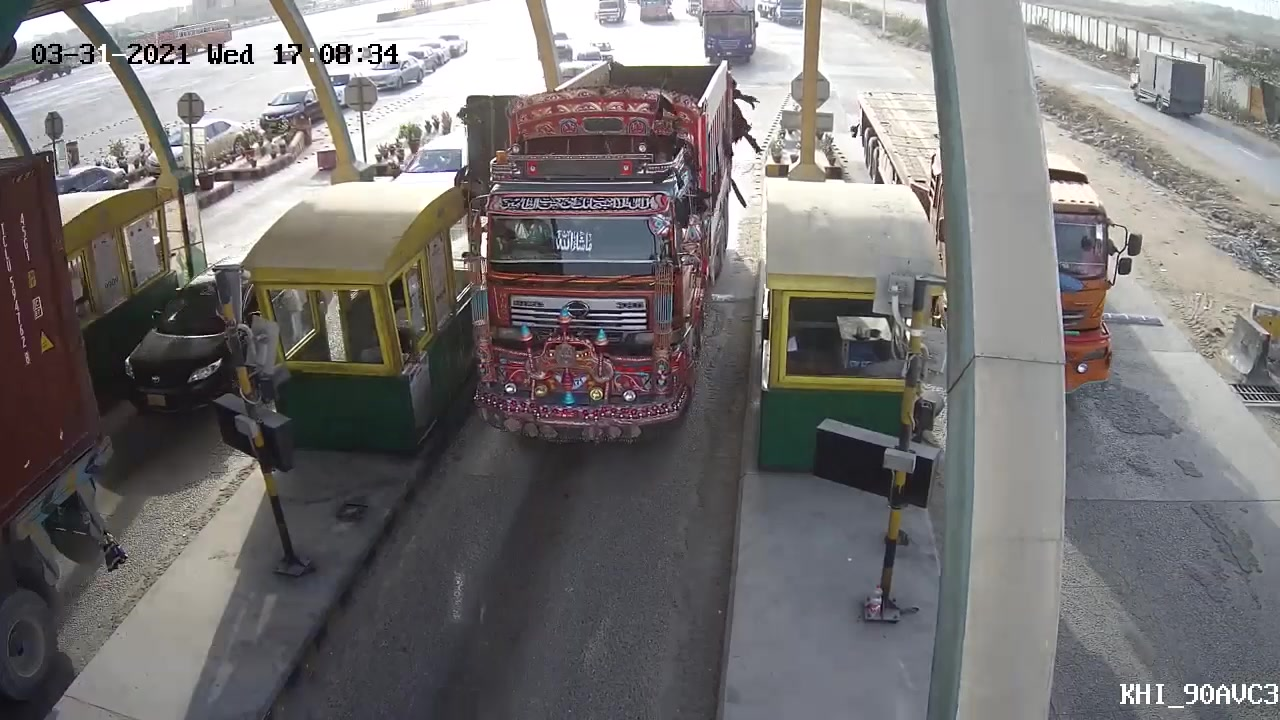F5: (461, 52, 749, 446)
